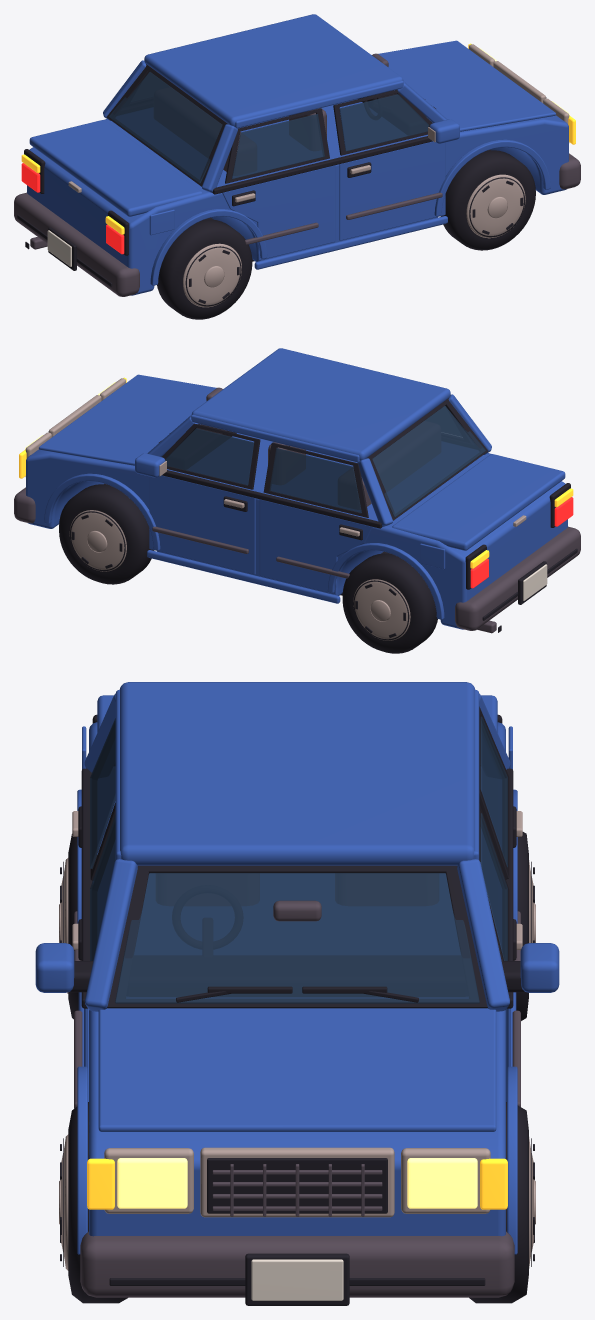
The picture shows the model from 3 angles, top to bottom: view 1: azimuth 30°, elevation 25°; view 2: azimuth 150°, elevation 25°; view 3: azimuth 270°, elevation 25°; orthographic projection. The views are drawn at different scales.
Visible parts, largest first — view 1: body_policeBlue, doorL_policeBlue, body_backpackTeal, doorRearL_policeBlue, wheelRL_uiDark, wheelFL_uiDark, body_asphalt, body_uiDark, doorRearL_backpackTeal, doorL_backpackTeal, wheelFL_sidewalk, wheelRL_sidewalk (+7 smaller); view 2: body_policeBlue, doorR_policeBlue, body_backpackTeal, doorRearR_policeBlue, wheelRR_uiDark, wheelFR_uiDark, body_asphalt, body_uiDark, doorRearR_backpackTeal, doorR_backpackTeal, wheelFR_sidewalk, wheelRR_sidewalk (+7 smaller); view 3: body_policeBlue, body_backpackTeal, body_asphalt, body_uiDark, body_sidewalk, lightsFront_windowGlow, body_picketWhite, wheelFR_uiDark, lightsFront_schoolBusYellow, wheelFL_uiDark, doorRearL_backpackTeal, doorRearR_backpackTeal (+9 smaller).
Boxes of the visible parts, x1,y1,x2,y2 form: body_policeBlue: (27,14,568,295); doorL_policeBlue: (339,119,459,240); body_backpackTeal: (109,72,222,183); doorRearL_policeBlue: (222,165,335,260); wheelRL_uiDark: (157,219,252,319); wheelFL_uiDark: (440,150,535,250); body_asphalt: (14,53,580,296); body_uiDark: (17,64,546,286); doorRearL_backpackTeal: (232,114,324,179); doorL_backpackTeal: (339,94,429,151); wheelFL_sidewalk: (466,174,525,238); wheelRL_sidewalk: (183,243,241,307); body_policeBlue: (26,348,567,629); doorR_policeBlue: (135,453,255,574); body_backpackTeal: (372,406,485,517); doorRearR_policeBlue: (259,499,372,594); wheelRR_uiDark: (342,553,437,653); wheelFR_uiDark: (59,484,154,584); body_asphalt: (14,387,580,633); body_uiDark: (48,398,577,632); doorRearR_backpackTeal: (269,448,361,513); doorR_backpackTeal: (165,428,253,485); wheelFR_sidewalk: (69,510,126,571); wheelRR_sidewalk: (353,579,410,640); body_policeBlue: (77,682,517,1254); body_backpackTeal: (115,873,479,1003); body_asphalt: (80,900,514,1297); body_uiDark: (81,714,513,1305); body_sidewalk: (104,1147,490,1217); lightsFront_windowGlow: (117,1158,477,1208); body_picketWhite: (251,1259,343,1300); wheelFR_uiDark: (469,1102,534,1303); lightsFront_schoolBusYellow: (87,1158,507,1209); wheelFL_uiDark: (60,1102,127,1303); doorRearL_backpackTeal: (90,718,115,868); doorRearR_backpackTeal: (480,716,507,867).
Bounding box in the file's own units: 4.54 × 1.68 × 2.16.
